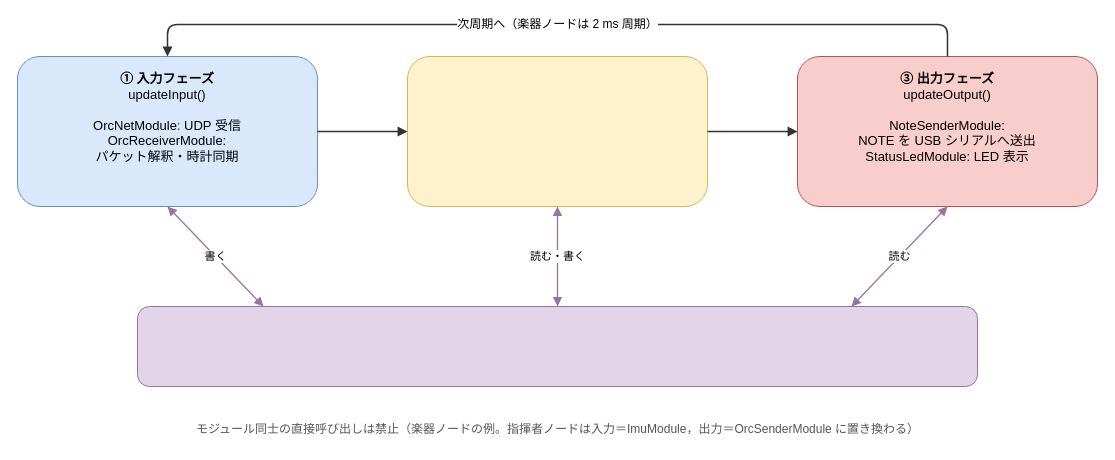
Image size: 1115x460. Some labels were removed from this diagram. Each missing label, with the centre of its shape:
"② ロジックフェーズ applyPattern() 発音予約の発火判定 楽譜進行・NOTE 内容の決定 （ノード固有の処理）" goes at (557,131).
"共有構造体 SystemData （唯一のモジュール間インタフェース） 受信パケット・時計オフセット・発音予約・楽譜位置・NOTE 出力要求・LED 状態" goes at (557,346).
